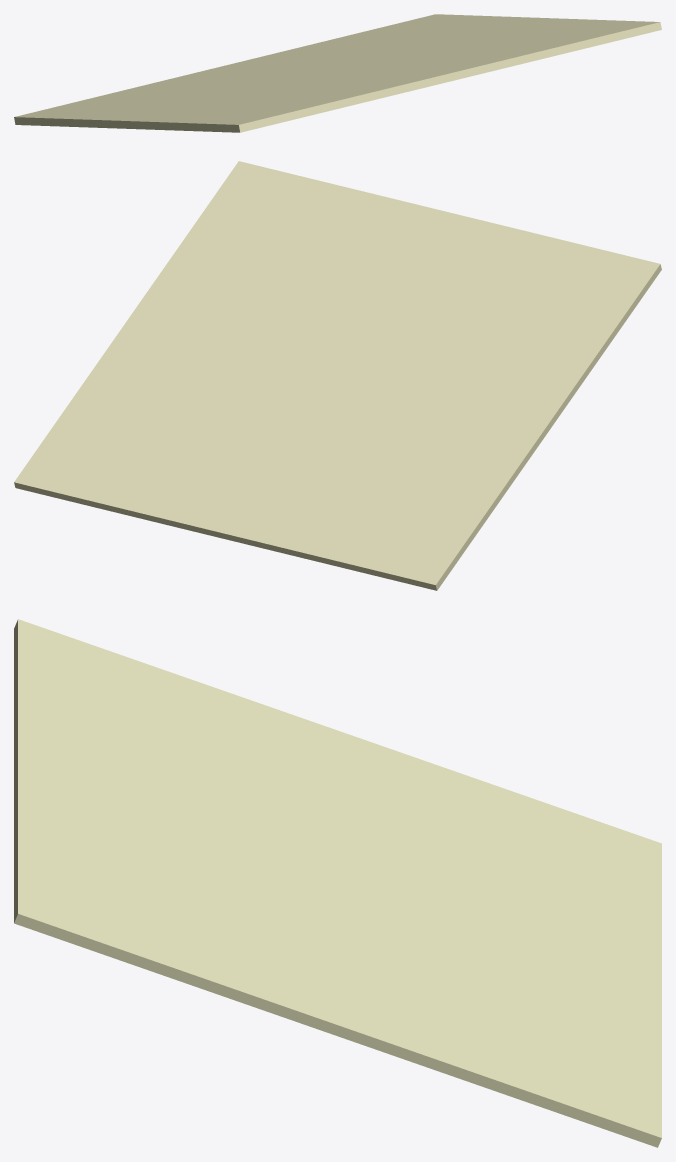
Rendered from Awning.fbx.
3 renders of one model, top to bottom at view 1: azimuth 30°, elevation 25°; view 2: azimuth 150°, elevation 25°; view 3: azimuth 270°, elevation 25°, orthographic. The views are drawn at different scales.
Parts seen in each view (by area): view 1: Cube.048; view 2: Cube.048; view 3: Cube.048.
Boxes of the visible parts, x1,y1,x2,y2 form: Cube.048: (14,14,661,132); Cube.048: (14,161,661,590); Cube.048: (14,619,661,1147).
Bounding box in the file's own units: 72.24 × 26.76 × 67.12.
